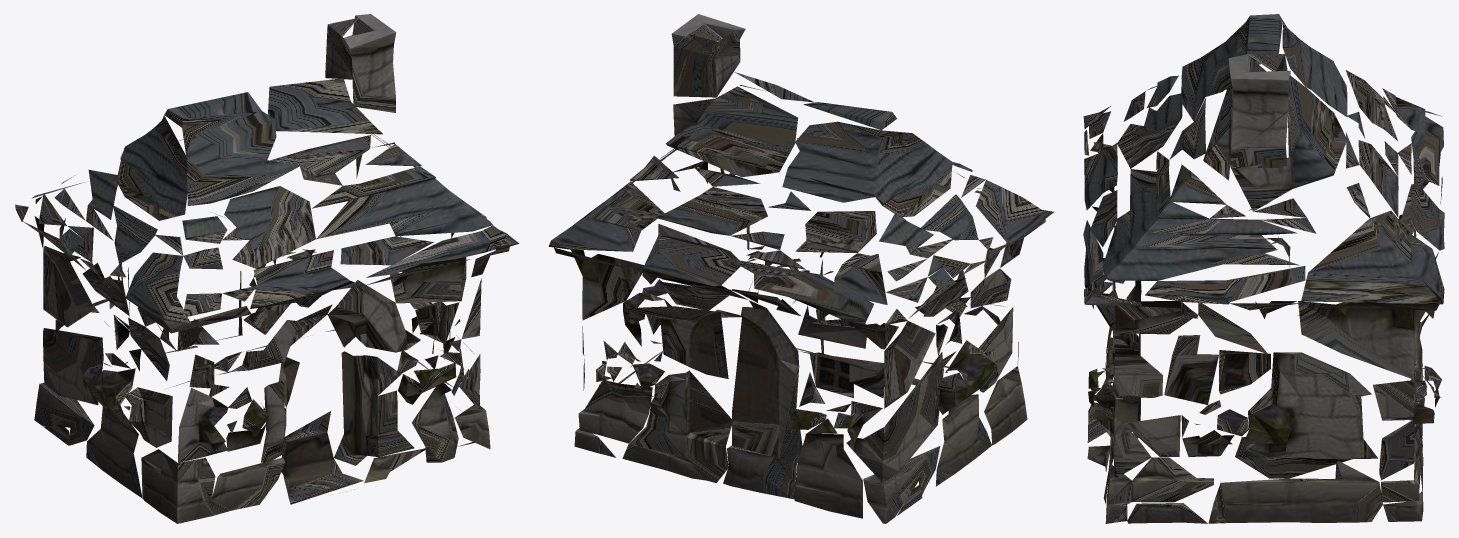
The model's file is bld_house_npc_i_a_LOD2.glb.
The picture shows the model from 3 angles, left to right: view 1: azimuth 30°, elevation 25°; view 2: azimuth 150°, elevation 25°; view 3: azimuth 270°, elevation 25°; orthographic projection. The views are drawn at different scales.
Parts seen in each view (by area): view 1: geometry_0; view 2: geometry_0; view 3: geometry_0.
Boxes of the visible parts, x1=… form: geometry_0: x1=15, y1=14, x2=519, y2=523; geometry_0: x1=548, y1=14, x2=1053, y2=523; geometry_0: x1=1083, y1=14, x2=1444, y2=523.
Bounding box in the file's own units: 4.75 × 5 × 3.84.
Materials: 1 (1 with a texture image).
